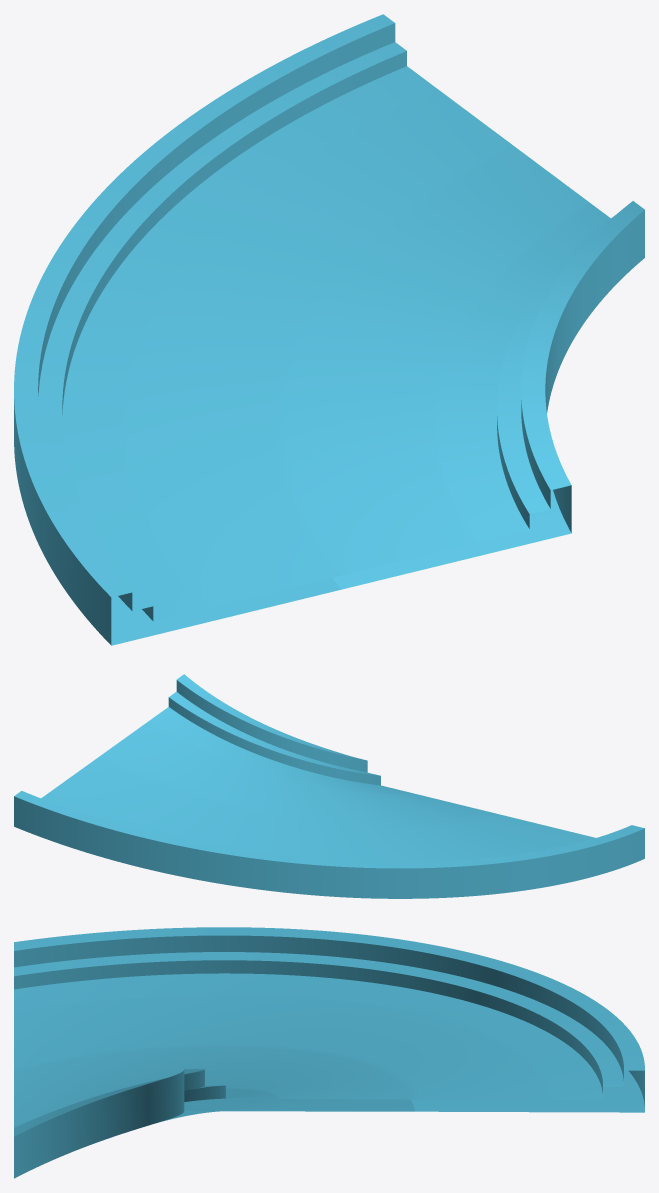
File: pista_rampa_direita.fbx
The picture shows the model from 3 angles, top to bottom: view 1: azimuth 30°, elevation 25°; view 2: azimuth 150°, elevation 25°; view 3: azimuth 270°, elevation 25°; orthographic projection. The views are drawn at different scales.
Visible parts, largest first — view 1: rampa_direita; view 2: rampa_direita; view 3: rampa_direita.
Boxes of the visible parts, x1,y1,x2,y2 form: rampa_direita: (14, 14, 644, 645); rampa_direita: (14, 674, 644, 898); rampa_direita: (14, 927, 644, 1178).
Bounding box in the file's own units: 10064 × 3180 × 9977.
